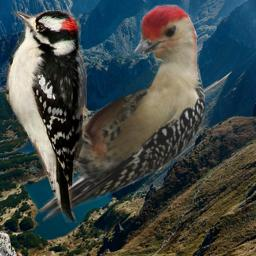Woodpecker: (36, 4, 205, 227), (2, 10, 87, 223)
